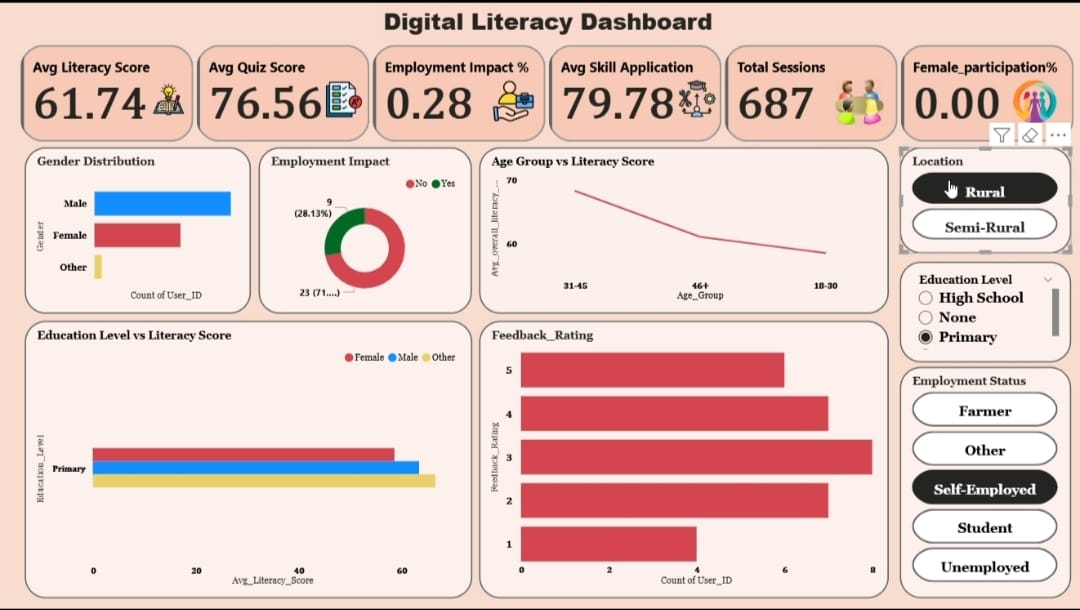

The page's visual inventory and layout, read from the dashboard file:
{"tool":"powerbi","page":{"name":"dashboard","canvas":[1280,720],"ordinal":0},"visuals":[{"type":"cardVisual","fields":{"Data":["Digital_Literacy.Avg_Literacy_Score","Digital_Literacy.Avg_Quiz_Score","Digital_Literacy.Employment_Impact_%","Digital_Literacy.Avg_Skill_Application","Digital_Literacy.Total Sessions","Digital_Literacy.Female_participation%"]},"box":[20.9,48.8,1259.3,124.4],"z":0},{"type":"textbox","box":[448.8,0,403.5,48.8],"z":1000},{"type":"clusteredBarChart","title":" Gender Distribution","fields":{"Y":["CountNonNull(Digital_Literacy.User_ID)"],"Category":["Digital_Literacy.Gender"]},"box":[30.2,173.3,267.4,196.5],"z":2000},{"type":"clusteredBarChart","title":"Education Level vs Literacy Score","fields":{"Category":["Digital_Literacy.Education_Level"],"Y":["Digital_Literacy.Avg_Literacy_Score"],"Series":["Digital_Literacy.Gender"]},"box":[30.2,378.8,528.4,328.2],"z":3000},{"type":"donutChart","title":"Employment Impact","fields":{"Category":["Digital_Literacy.Employment_Impact"],"Y":["CountNonNull(Digital_Literacy.User_ID)"]},"box":[306.4,173.7,252.1,196.6],"z":4000},{"type":"advancedSlicerVisual","title":"Location","fields":{"Values":["Digital_Literacy.Location_Type"]},"box":[1064.1,173.7,202.7,125.5],"z":5000},{"type":"lineChart","title":"Age Group vs Literacy Score","fields":{"Category":["Digital_Literacy.Age_Group"],"Y":["Digital_Literacy.Avg_overall_literacy_Score"]},"box":[567,173.7,483.8,196.6],"z":6000},{"type":"advancedSlicerVisual","title":"Employment Status","fields":{"Values":["Digital_Literacy.Employment_Status"]},"box":[1064.1,433.1,202.7,273.9],"z":7000},{"type":"barChart","title":" Feedback_Rating","fields":{"Category":["Digital_Literacy.Feedback_Rating"],"Y":["CountNonNull(Digital_Literacy.User_ID)"]},"box":[567,379,484,328],"z":8000},{"type":"slicer","fields":{"Values":["Digital_Literacy.Education_Level"]},"box":[1064.1,308.8,202.7,119.4],"z":9000},{"type":"image","box":[174.9,78.4,50.7,76],"z":10000},{"type":"image","box":[381.2,90.5,51.9,53.1],"z":11000},{"type":"image","box":[575.5,90.5,63.9,57.9],"z":12000},{"type":"image","box":[797.5,84.5,54.3,63.9],"z":13000},{"type":"image","box":[980.8,86.9,70,67.6],"z":14000},{"type":"image","box":[1179.9,78.4,86.9,83.2],"z":15000}]}

Visuals, with their boxes in screenshot pixels (x1, y1, x2, y2), scaled from the page's 1280x720 canvas onto the 1080x610 screenshot:
cardVisual - Digital_Literacy.Avg_Literacy_Score x Digital_Literacy.Avg_Quiz_Score: 18,41,1079,147
textbox: 379,0,719,41
" Gender Distribution" clusteredBarChart: 25,147,251,313
"Education Level vs Literacy Score" clusteredBarChart: 25,321,471,599
"Employment Impact" donutChart: 259,147,471,314
"Location" advancedSlicerVisual: 898,147,1069,253
"Age Group vs Literacy Score" lineChart: 478,147,887,314
"Employment Status" advancedSlicerVisual: 898,367,1069,599
" Feedback_Rating" barChart: 478,321,887,599
slicer - Digital_Literacy.Education_Level: 898,262,1069,363
image: 148,66,190,131
image: 322,77,365,122
image: 486,77,539,126
image: 673,72,719,126
image: 828,74,887,131
image: 996,66,1069,137
